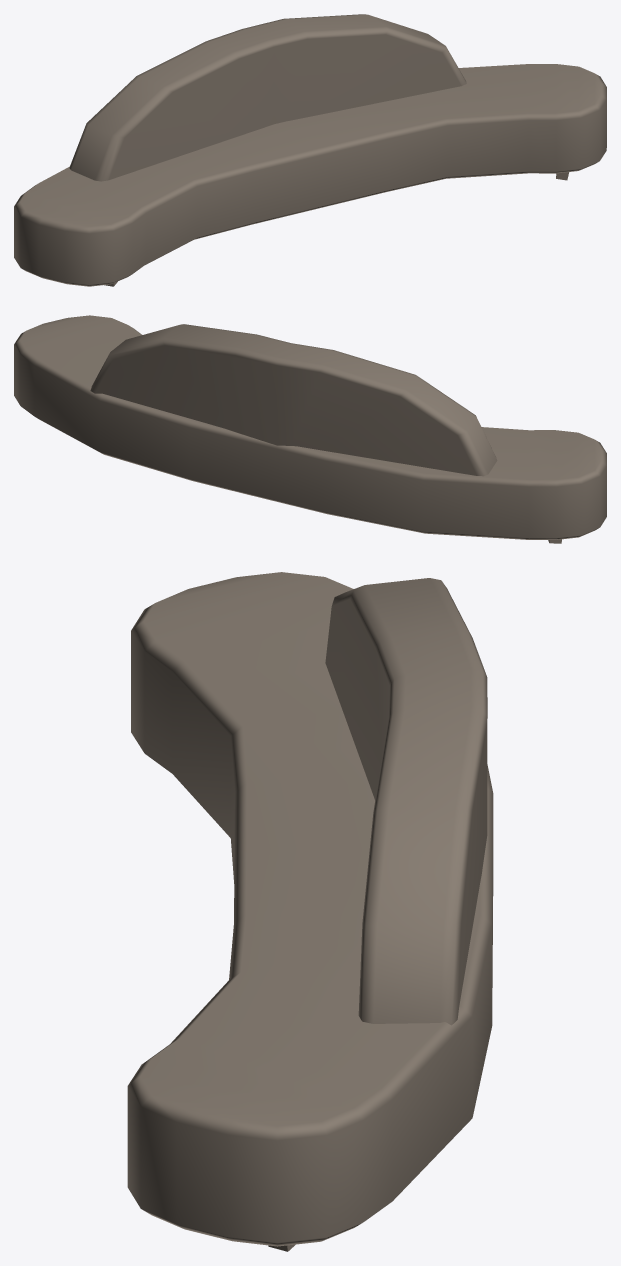
File: couch.fbx
The picture shows the model from 3 angles, top to bottom: view 1: azimuth 30°, elevation 25°; view 2: azimuth 150°, elevation 25°; view 3: azimuth 270°, elevation 25°; orthographic projection. The views are drawn at different scales.
Visible parts, largest first — view 1: couch; view 2: couch; view 3: couch.
Boxes of the visible parts, left/top/right/bottom form: couch: left=14, top=14, right=606, bottom=286; couch: left=14, top=315, right=606, bottom=543; couch: left=127, top=572, right=493, bottom=1251.
Size of the model in its own units: 263 by 68.32 by 71.97.
